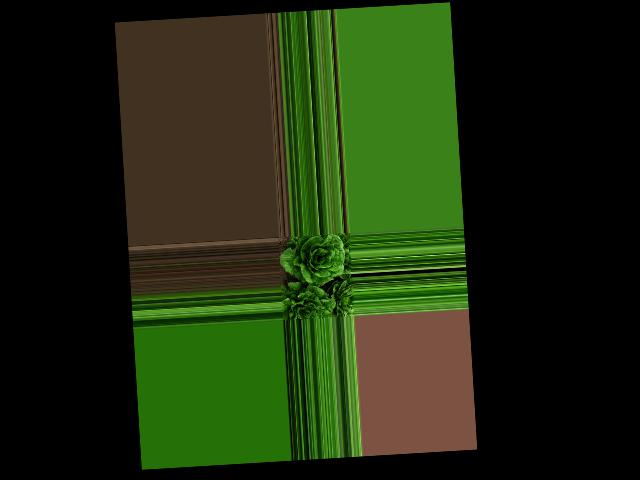lettuce: (282, 284, 336, 321)
